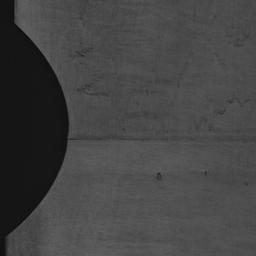Crescent gap: (8, 24, 69, 235)
